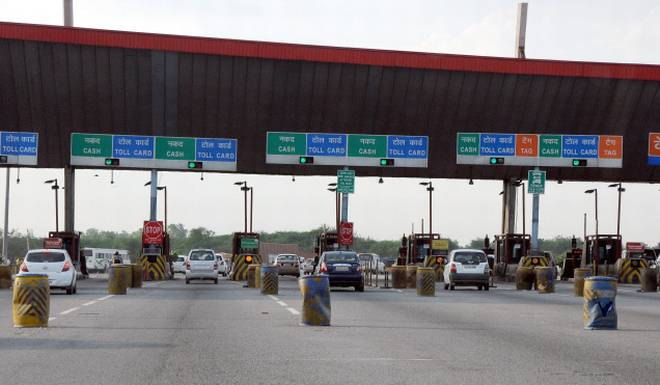toll plaza: (4, 8, 660, 299)
